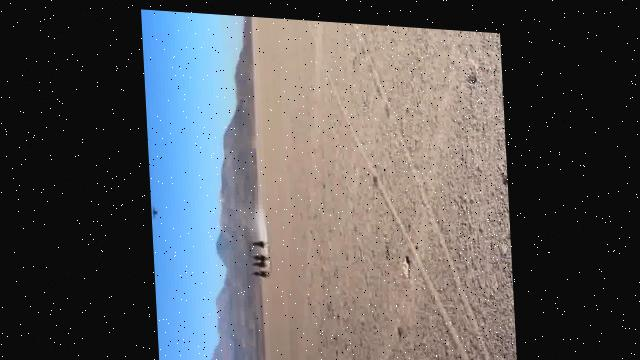drone: (147, 189, 161, 229)
